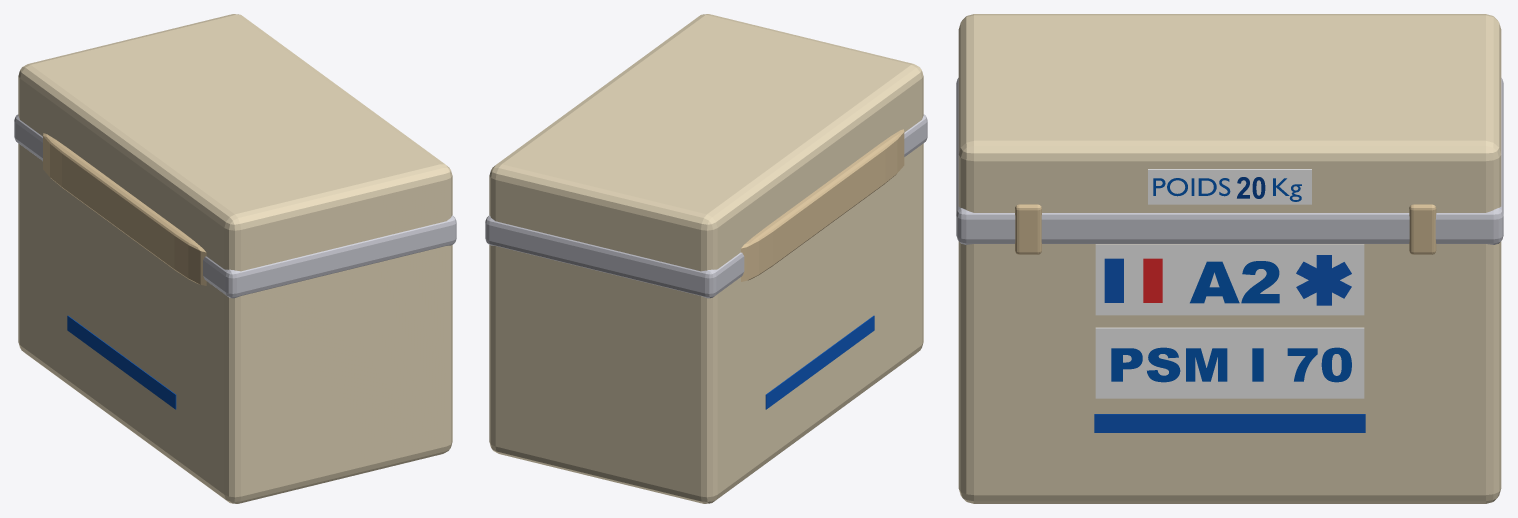
File: MalleA2.fbx
3 views of the same model, side by side, from view 1: azimuth 30°, elevation 25°; view 2: azimuth 150°, elevation 25°; view 3: azimuth 270°, elevation 25° (orthographic). The views are drawn at different scales.
Parts seen in each view (by area): view 1: Malle_PSM, Anneau, Loquet.002, Bande_Rouge; view 2: Malle_PSM, Anneau, Loquet.002, Bande_Rouge; view 3: Malle_PSM, Anneau, Etiquette_PSM, Etiquette_A3.001, Bande_Rouge, Etiquette_A3, Texte_PSM, Drabeau Blanc, Texte_A3, Samu, Loquet, Loquet.001 (+1 smaller).
Boxes of the visible parts, left/top/right/bottom form: Malle_PSM: left=18, top=14, right=452, bottom=503; Anneau: left=14, top=114, right=456, bottom=298; Loquet.002: left=43, top=133, right=206, bottom=285; Bande_Rouge: left=67, top=315, right=176, bottom=409; Malle_PSM: left=489, top=14, right=923, bottom=503; Anneau: left=485, top=114, right=927, bottom=298; Loquet.002: left=741, top=129, right=904, bottom=281; Bande_Rouge: left=765, top=315, right=874, bottom=409; Malle_PSM: left=958, top=14, right=1501, bottom=503; Anneau: left=956, top=78, right=1503, bottom=244; Etiquette_PSM: left=1095, top=327, right=1364, bottom=398; Etiquette_A3.001: left=1095, top=244, right=1364, bottom=315; Bande_Rouge: left=1094, top=414, right=1365, bottom=432; Etiquette_A3: left=1148, top=169, right=1311, bottom=204; Texte_PSM: left=1111, top=347, right=1351, bottom=382; Drabeau Blanc: left=1104, top=258, right=1162, bottom=302; Texte_A3: left=1190, top=261, right=1279, bottom=303; Samu: left=1296, top=255, right=1351, bottom=305; Loquet: left=1409, top=204, right=1436, bottom=254; Loquet.001: left=1015, top=204, right=1041, bottom=254.
Bounding box in the file's own units: 33.45 × 39 × 53.5.
